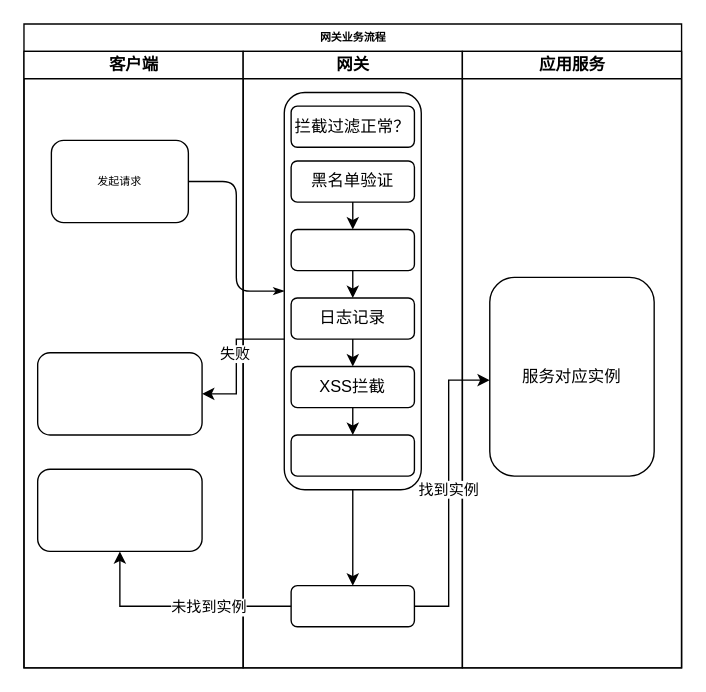
The diagram is 706 pixels wide and 692 high, and some of its shapes have lost their labels. Here are the shapes that lost their labels. From the top down, the centre of each, then its label:
At point 352,249: "请求缓存".
At point 119,393: "报错或让用户重新登录".
At point 352,455: "登录验证".
At point 119,509: "异常提示".
At point 352,605: "负载均衡".
